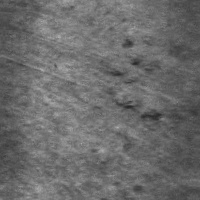rolled-in_scale: (108, 32, 171, 124)
